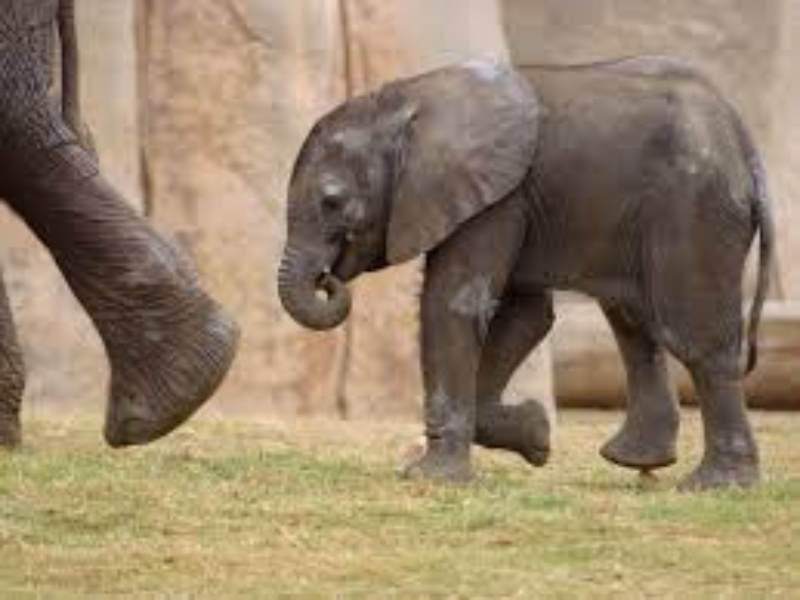elephant: (261, 41, 783, 518)
